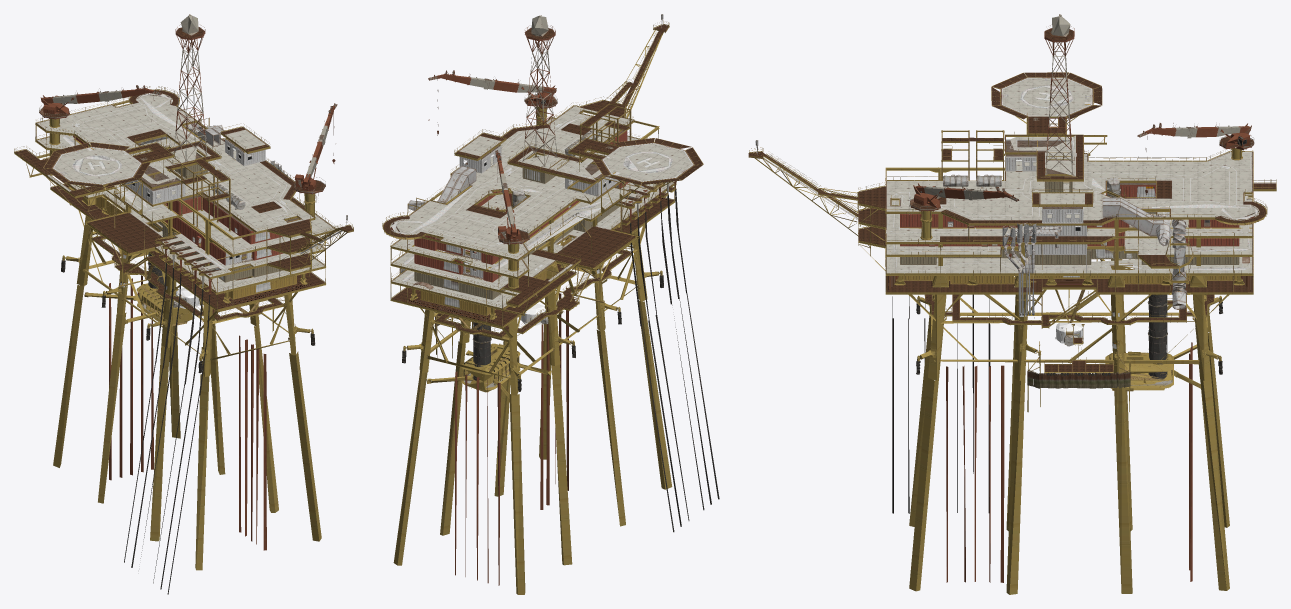
File: oilrig_1-map.glb
The picture shows the model from 3 angles, left to right: view 1: azimuth 30°, elevation 25°; view 2: azimuth 150°, elevation 25°; view 3: azimuth 270°, elevation 25°; orthographic projection. The views are drawn at different scales.
Parts seen in each view (by area): view 1: burner_LOD0, helipad_LOD0, comms_tower_LOD0, gas_room_LOD0, level4_LOD0, level2_LOD0; view 2: burner_LOD0, helipad_LOD0, comms_tower_LOD0, gas_room_LOD0, level4_LOD0, level2_LOD0, level3_cctv_room_LOD0, fuel_tank_b_600; view 3: burner_LOD0, helipad_LOD0, comms_tower_LOD0, gas_room_LOD0, level4_LOD0, level0_dock_LOD0, level2_LOD0, level3_cctv_room_LOD0, oilrig_exhausts, fuel_tank_b_600.
Boxes of the visible parts, left/top/right/bottom form: burner_LOD0: left=14, top=27, right=353, bottom=594; helipad_LOD0: left=36, top=93, right=335, bottom=292; comms_tower_LOD0: left=39, top=14, right=337, bottom=550; gas_room_LOD0: left=73, top=91, right=323, bottom=266; level4_LOD0: left=157, top=152, right=283, bottom=282; level2_LOD0: left=95, top=197, right=296, bottom=299; burner_LOD0: left=382, top=14, right=719, bottom=594; helipad_LOD0: left=390, top=106, right=693, bottom=308; comms_tower_LOD0: left=428, top=15, right=676, bottom=585; gas_room_LOD0: left=414, top=79, right=628, bottom=282; level4_LOD0: left=414, top=156, right=645, bottom=299; level2_LOD0: left=420, top=237, right=571, bottom=315; level3_cctv_room_LOD0: left=472, top=290, right=502, bottom=380; fuel_tank_b_600: left=512, top=128, right=600, bottom=324; burner_LOD0: left=748, top=28, right=1276, bottom=594; helipad_LOD0: left=886, top=77, right=1259, bottom=348; comms_tower_LOD0: left=909, top=14, right=1254, bottom=582; gas_room_LOD0: left=900, top=127, right=1249, bottom=273; level4_LOD0: left=900, top=168, right=1239, bottom=264; level0_dock_LOD0: left=1027, top=117, right=1130, bottom=388; level2_LOD0: left=901, top=276, right=1237, bottom=283; level3_cctv_room_LOD0: left=1147, top=294, right=1167, bottom=379; oilrig_exhausts: left=1002, top=223, right=1036, bottom=315; fuel_tank_b_600: left=943, top=174, right=1120, bottom=346.
Bounding box in the file's own units: 74.93 × 134 × 115.
Materials: 35 (35 with a texture image).
